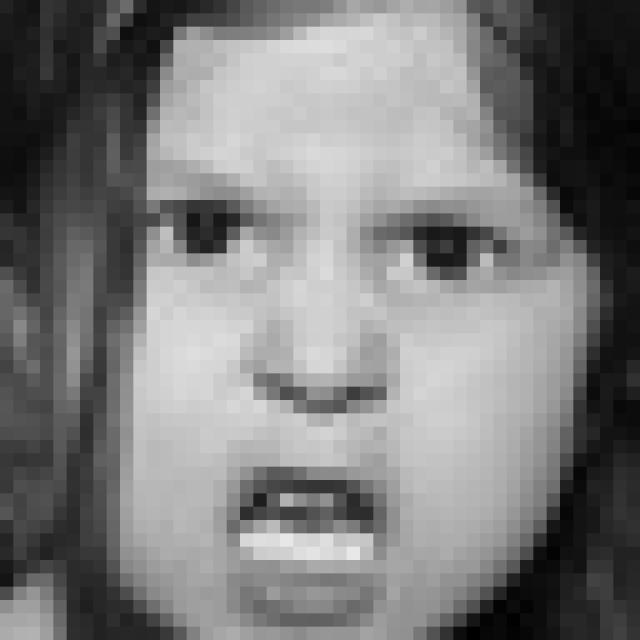angry: (142, 166, 532, 626)
